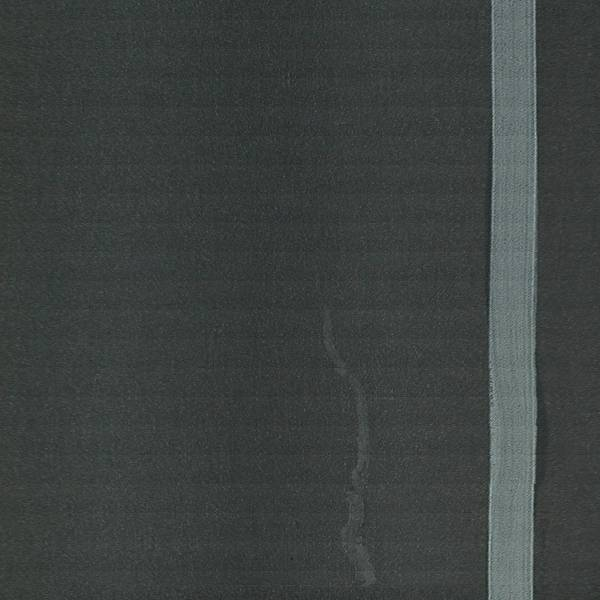road_damage: (316, 301, 383, 593)
